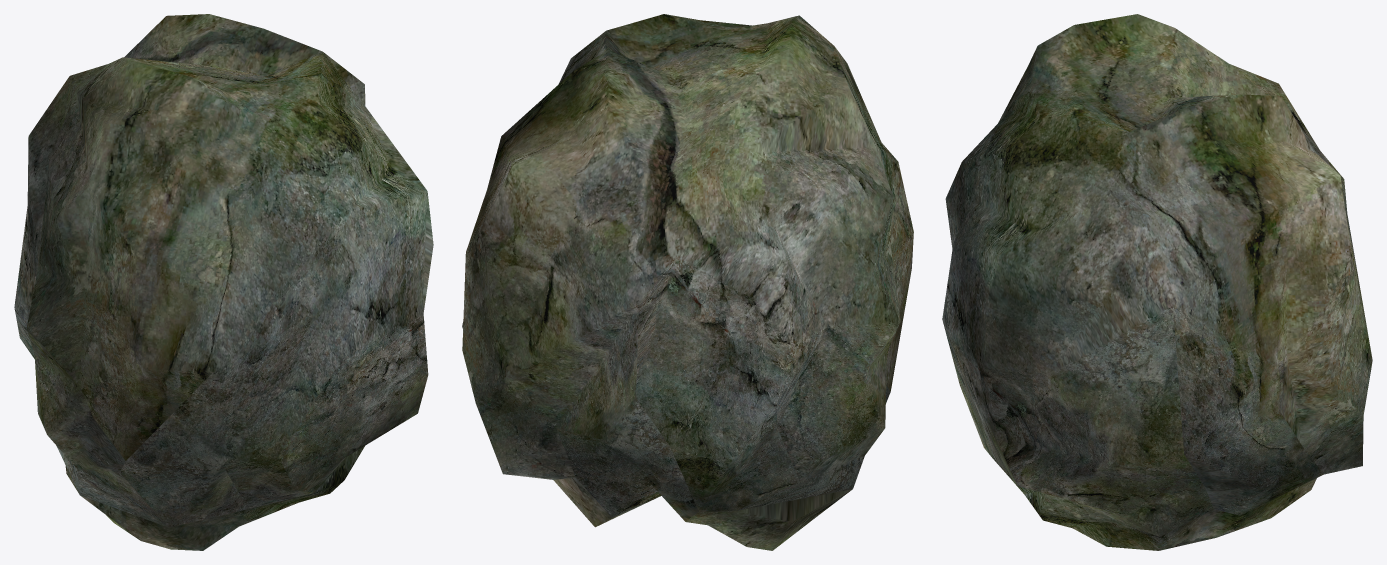
Rendered from forest_rock_med_a.fbx.
The picture shows the model from 3 angles, left to right: view 1: azimuth 30°, elevation 25°; view 2: azimuth 150°, elevation 25°; view 3: azimuth 270°, elevation 25°; orthographic projection. The views are drawn at different scales.
Parts seen in each view (by area): view 1: forest_rock_med_a_mesh; view 2: forest_rock_med_a_mesh; view 3: forest_rock_med_a_mesh.
Part boxes in pixels (box(x1,y1,x2,y2)): forest_rock_med_a_mesh: box(14, 14, 433, 550); forest_rock_med_a_mesh: box(462, 14, 913, 550); forest_rock_med_a_mesh: box(942, 14, 1372, 550).
Bounding box in the file's own units: 2.11 × 2.64 × 2.12.
Materials: 1 (1 with a texture image).
